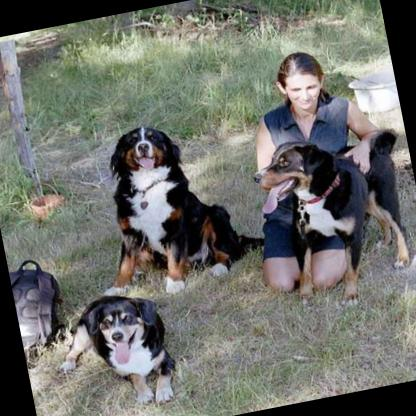Appenzeller: (75, 106, 272, 304), (248, 123, 416, 322), (44, 284, 181, 416)
